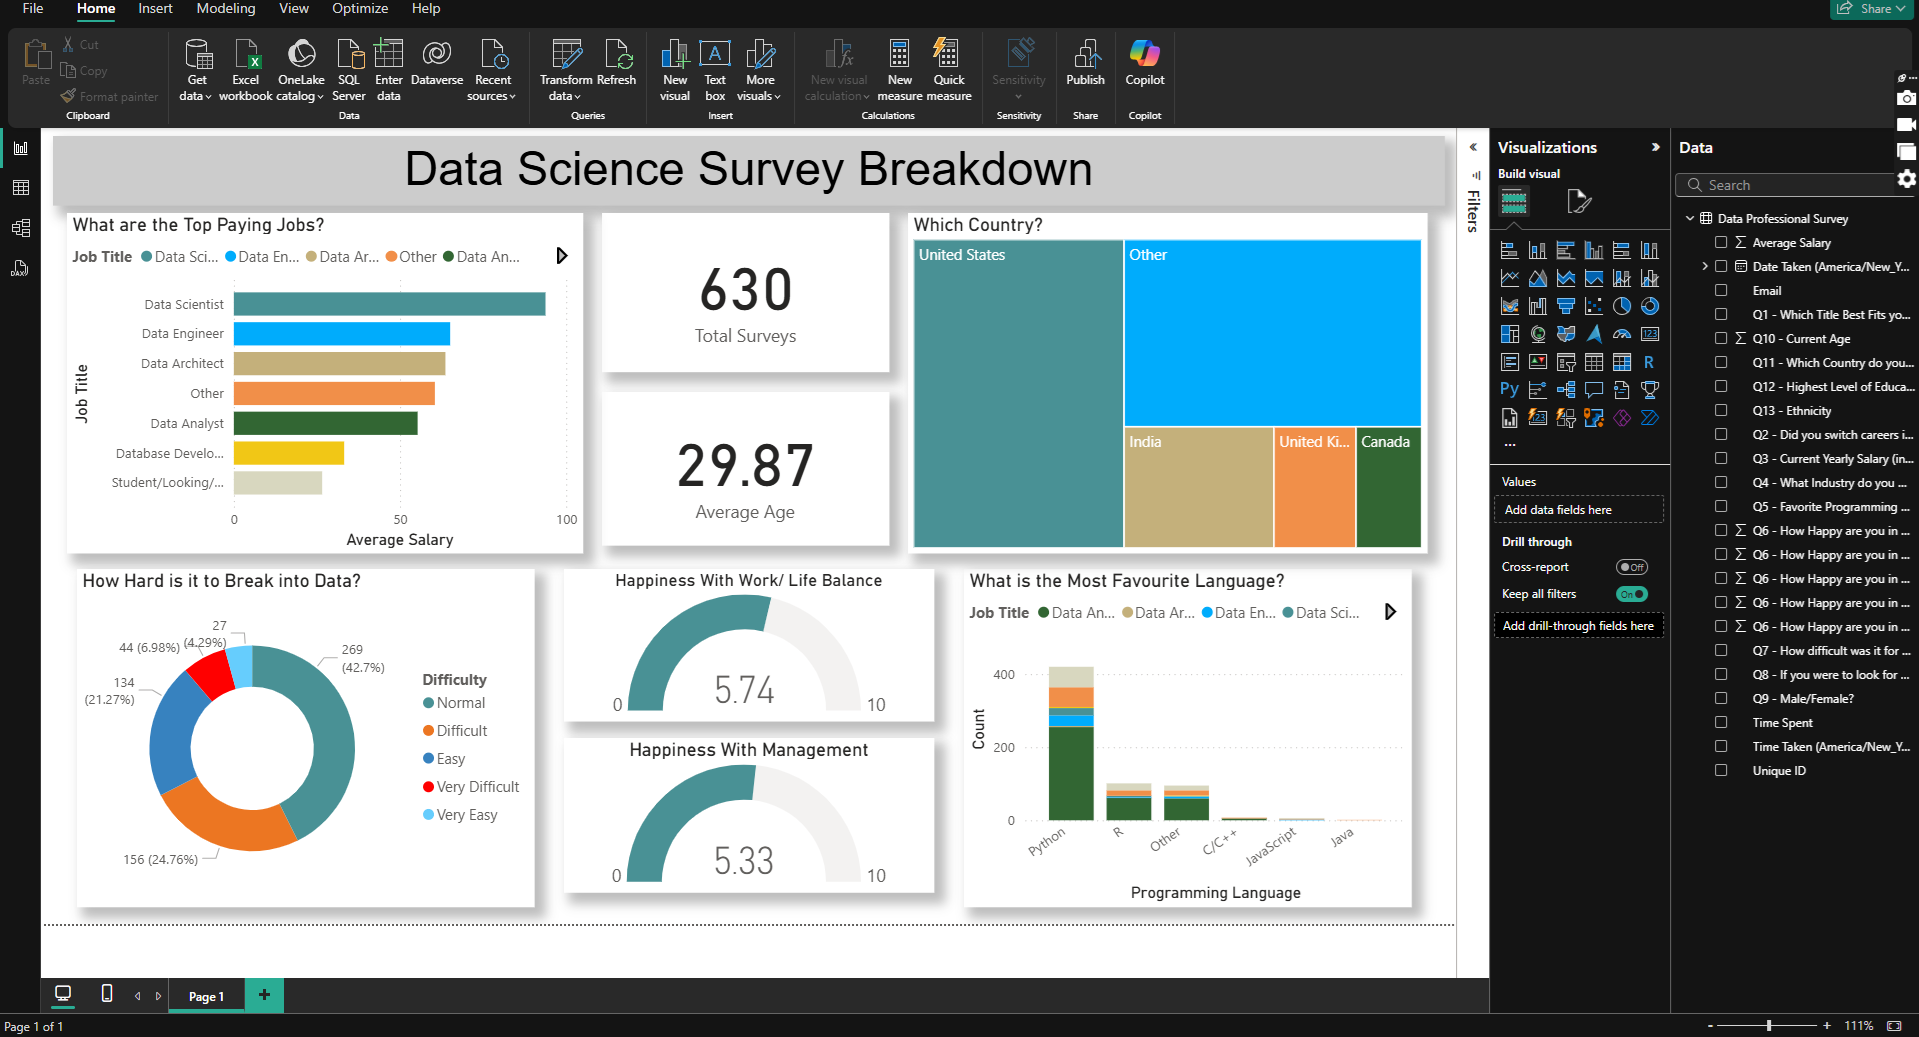

This screenshot's page, from the dashboard's own definition file:
{"tool":"powerbi","page":{"name":"Page 1","canvas":[1280,720],"ordinal":0},"visuals":[{"type":"textbox","box":[10.9,7.2,1259.2,63.3],"z":0},{"type":"card","fields":{"Values":["CountNonNull(Data Professional Survey.Unique ID)"]},"box":[507.5,76.9,259.6,143.8],"z":1000},{"type":"card","fields":{"Values":["Avg(Data Professional Survey.Q10 - Current Age)"]},"box":[507.5,238.8,259.6,139.3],"z":2000},{"type":"barChart","title":"What are the Top Paying Jobs?","fields":{"Category":["Data Professional Survey.Q1 - Which Title Best Fits your Current Role?.1"],"Y":["Avg(Data Professional Survey.Average Salary)"],"Series":["Data Professional Survey.Q1 - Which Title Best Fits your Current Role?.1"]},"box":[23.5,76.9,466.8,308.5],"z":3000},{"type":"columnChart","title":"What is the Most Favourite Language?","fields":{"Category":["Data Professional Survey.Q5 - Favorite Programming Language.1"],"Y":["CountNonNull(Data Professional Survey.Unique ID)"],"Series":["Data Professional Survey.Q1 - Which Title Best Fits your Current Role?.1"]},"box":[834.9,398.9,405.3,305.8],"z":4000},{"type":"treemap","title":"Which Country?","fields":{"Group":["Data Professional Survey.Q11 - Which Country do you live in?.1"],"Values":["CountNonNull(Data Professional Survey.Q11 - Which Country do you live in?.1)"]},"box":[784.3,76.9,470.4,308.5],"z":5000},{"type":"gauge","title":"Happiness With Work/ Life Balance","fields":{"Y":["Avg(Data Professional Survey.Q6 - How Happy are you in your Current Position with the following? (Work/Life Balance))"],"MinValue":["Min(Data Professional Survey.Q6 - How Happy are you in your Current Position with the following? (Work/Life Balance))"],"MaxValue":["Max(Data Professional Survey.Q6 - How Happy are you in your Current Position with the following? (Work/Life Balance))"]},"box":[473.1,398.9,334.7,138.4],"z":6000},{"type":"gauge","title":"Happiness With Management","fields":{"Y":["Avg(Data Professional Survey.Q6 - How Happy are you in your Current Position with the following? (Management))"],"MinValue":["Min(Data Professional Survey.Q6 - How Happy are you in your Current Position with the following? (Management))"],"MaxValue":["Max(Data Professional Survey.Q6 - How Happy are you in your Current Position with the following? (Management))"]},"box":[473.1,551.8,334.7,140.2],"z":7000},{"type":"donutChart","title":"How Hard is it to Break into Data?","fields":{"Category":["Data Professional Survey.Q7 - How difficult was it for you to break into Data?"],"Y":["CountNonNull(Data Professional Survey.Q7 - How difficult was it for you to break into Data?)"]},"box":[32.6,398.9,414.3,305.8],"z":8000}]}

Visuals, with their boxes on the page's 1280x720 design canvas (x1, y1, x2, y2). These are canvas units, not pixel positions in the 1919x1037 screenshot, which may show the page scaled, cropped or inside an application window:
textbox: x1=11, y1=7, x2=1270, y2=70
card - CountNonNull(Data Professional Survey.Unique ID): x1=508, y1=77, x2=767, y2=221
card - Avg(Data Professional Survey.Q10 - Current Age): x1=508, y1=239, x2=767, y2=378
"What are the Top Paying Jobs?" barChart: x1=24, y1=77, x2=490, y2=385
"What is the Most Favourite Language?" columnChart: x1=835, y1=399, x2=1240, y2=705
"Which Country?" treemap: x1=784, y1=77, x2=1255, y2=385
"Happiness With Work/ Life Balance" gauge: x1=473, y1=399, x2=808, y2=537
"Happiness With Management" gauge: x1=473, y1=552, x2=808, y2=692
"How Hard is it to Break into Data?" donutChart: x1=33, y1=399, x2=447, y2=705
